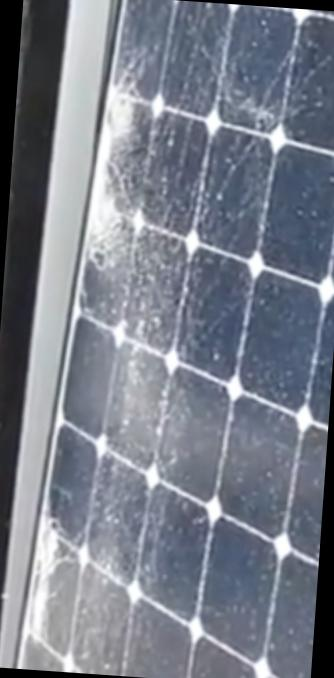Crack: (90, 63, 166, 170), (25, 515, 82, 647), (76, 184, 147, 279)
